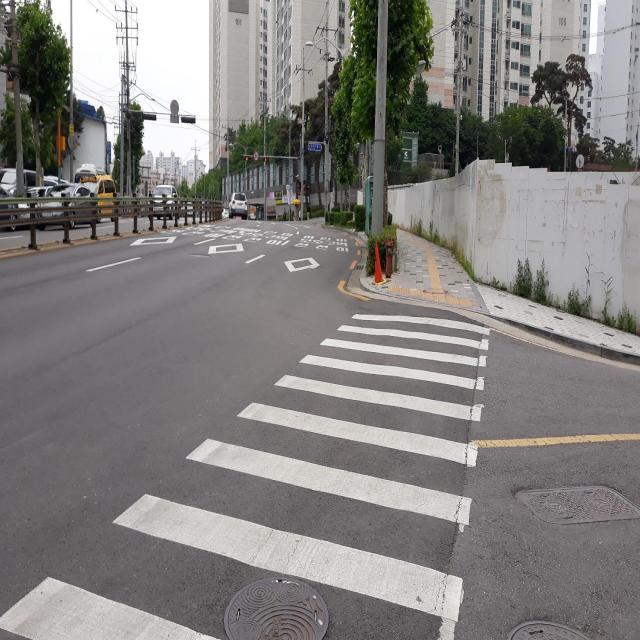횡단보도: (1, 312, 490, 640)
